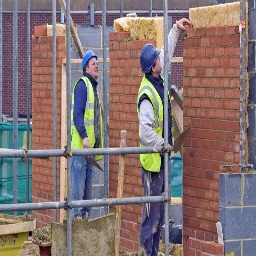helmet: (137, 41, 159, 73), (80, 49, 98, 67)
person: (133, 42, 175, 256), (68, 45, 106, 217)
vest: (138, 73, 175, 178), (72, 77, 106, 165)
